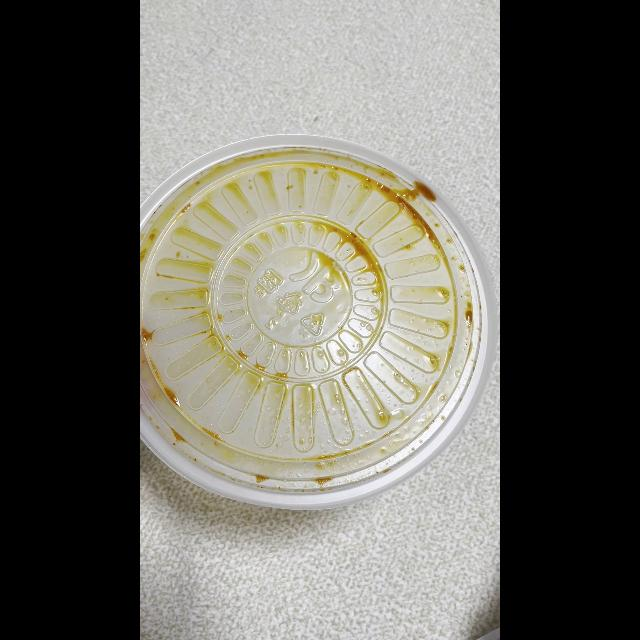dirty: (140, 137, 496, 500)
